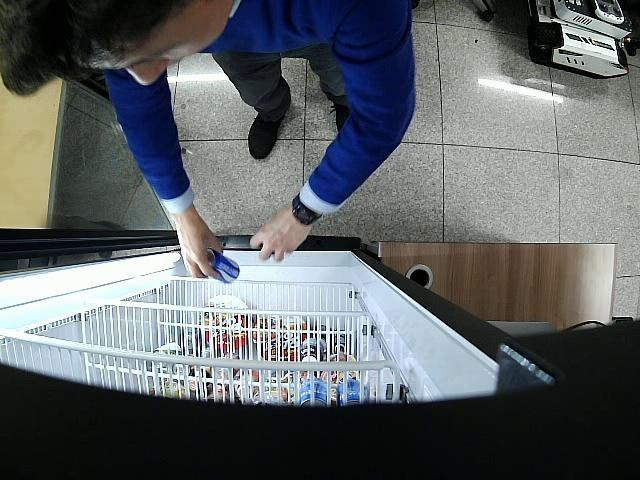13_pocariSweat: (207, 248, 240, 284)
